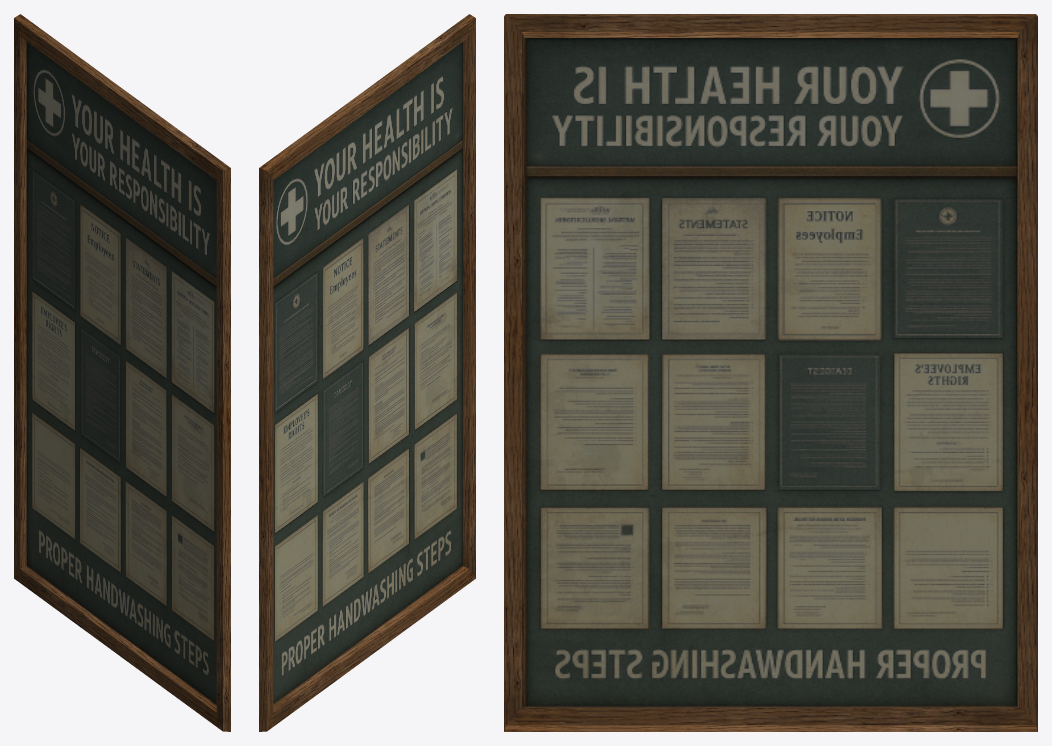
Rendered from HH_Medical_Posters_03.fbx.
3 views of the same model, side by side, from view 1: azimuth 30°, elevation 25°; view 2: azimuth 150°, elevation 25°; view 3: azimuth 270°, elevation 25° (orthographic). The views are drawn at different scales.
Visible parts, largest first — view 1: HH_Medical_Posters_03; view 2: HH_Medical_Posters_03; view 3: HH_Medical_Posters_03.
Boxes of the visible parts, left/top/right/bottom form: HH_Medical_Posters_03: left=14, top=14, right=230, bottom=731; HH_Medical_Posters_03: left=259, top=14, right=475, bottom=731; HH_Medical_Posters_03: left=504, top=14, right=1037, bottom=731.
Size of the model in its own units: 2.3 by 171 by 115.
